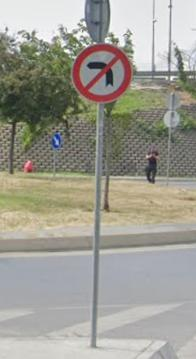leftturnsareforbidden: (74, 45, 136, 103)
